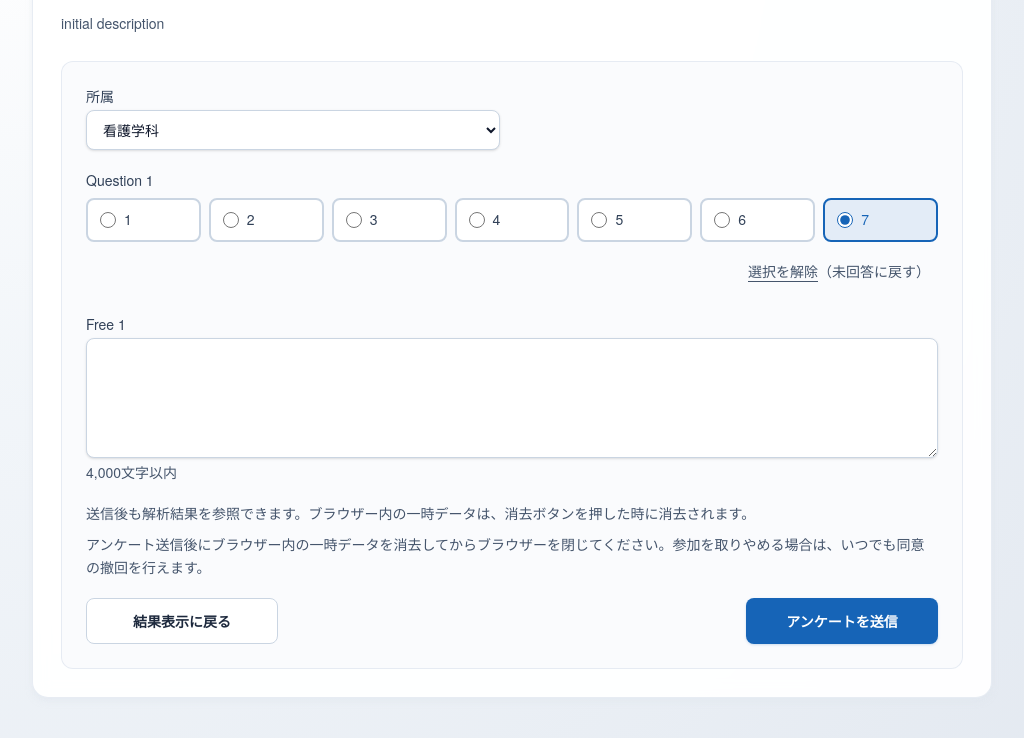
Test: SectionSurvey › shows a required textarea error for an answer of
(page scrolled)
Click the submit button.
click(842, 621)  # box [746,598,938,644]
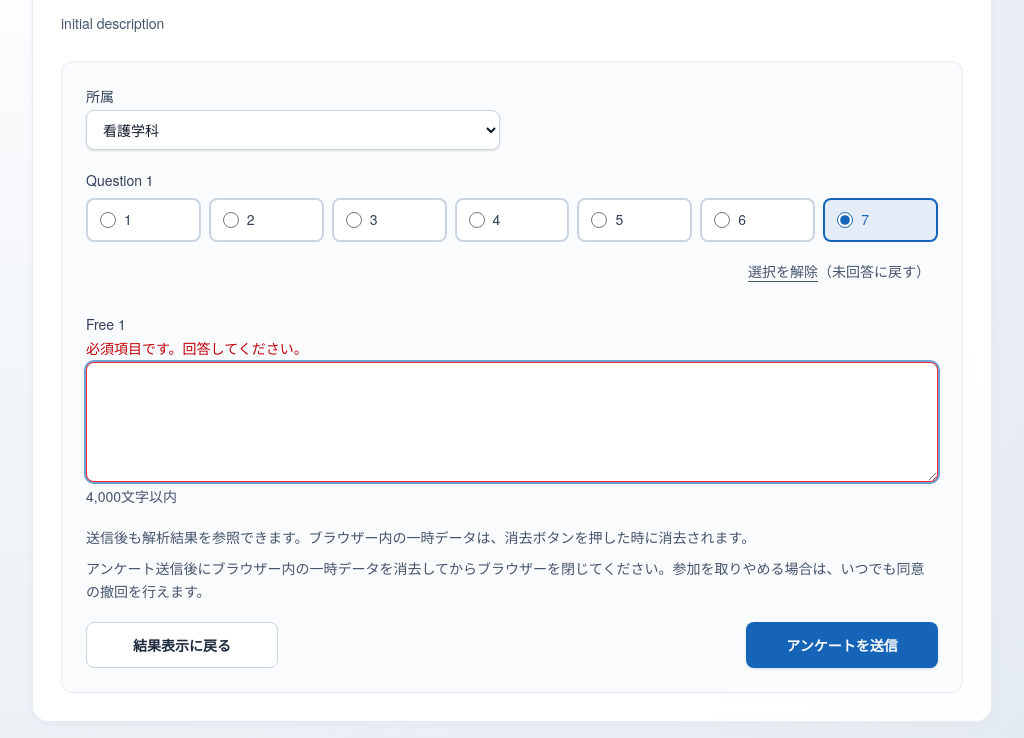
Now the text "必須項目です。回答してください。" is shown, box [86,338,308,358]
